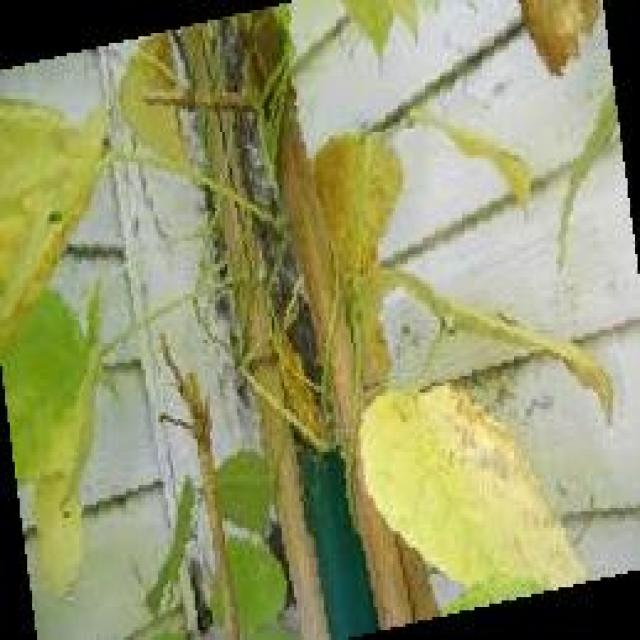Moko: (356, 394, 558, 578)
